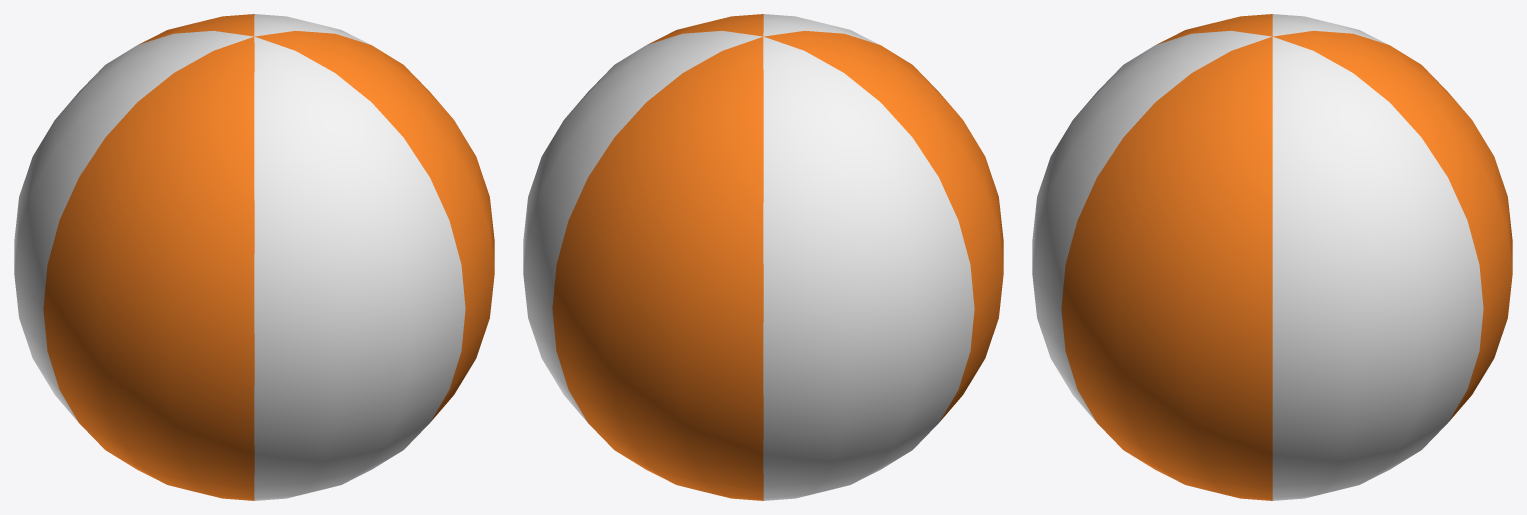
File: Volleyball_Orange.fbx
3 renders of one model, left to right at view 1: azimuth 30°, elevation 25°; view 2: azimuth 150°, elevation 25°; view 3: azimuth 270°, elevation 25°, orthographic.
Parts seen in each view (by area): view 1: Volleyball_Orange; view 2: Volleyball_Orange; view 3: Volleyball_Orange.
Part boxes in pixels (x1,y1,x2,y2): Volleyball_Orange: (14,14,494,500); Volleyball_Orange: (523,14,1003,500); Volleyball_Orange: (1032,14,1512,500).
Size of the model in its own units: 96.75 by 96.75 by 95.28.
